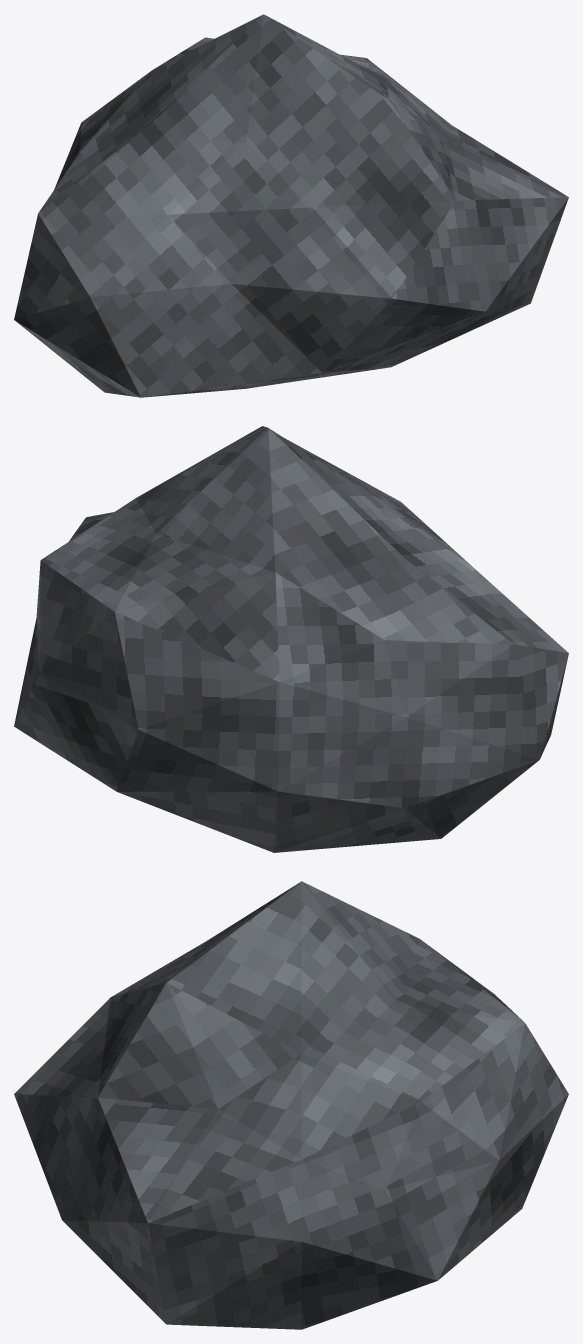
The model's file is Astreroid_2.fbx.
3 renders of one model, top to bottom at view 1: azimuth 30°, elevation 25°; view 2: azimuth 150°, elevation 25°; view 3: azimuth 270°, elevation 25°, orthographic. The views are drawn at different scales.
Visible parts, largest first — view 1: Asteroid_LowPoly; view 2: Asteroid_LowPoly; view 3: Asteroid_LowPoly.
Boxes of the visible parts, bbox=[...] form: Asteroid_LowPoly: bbox=[14, 14, 568, 397]; Asteroid_LowPoly: bbox=[14, 426, 568, 852]; Asteroid_LowPoly: bbox=[14, 881, 568, 1329].
Size of the model in its own units: 509 by 353 by 450.
